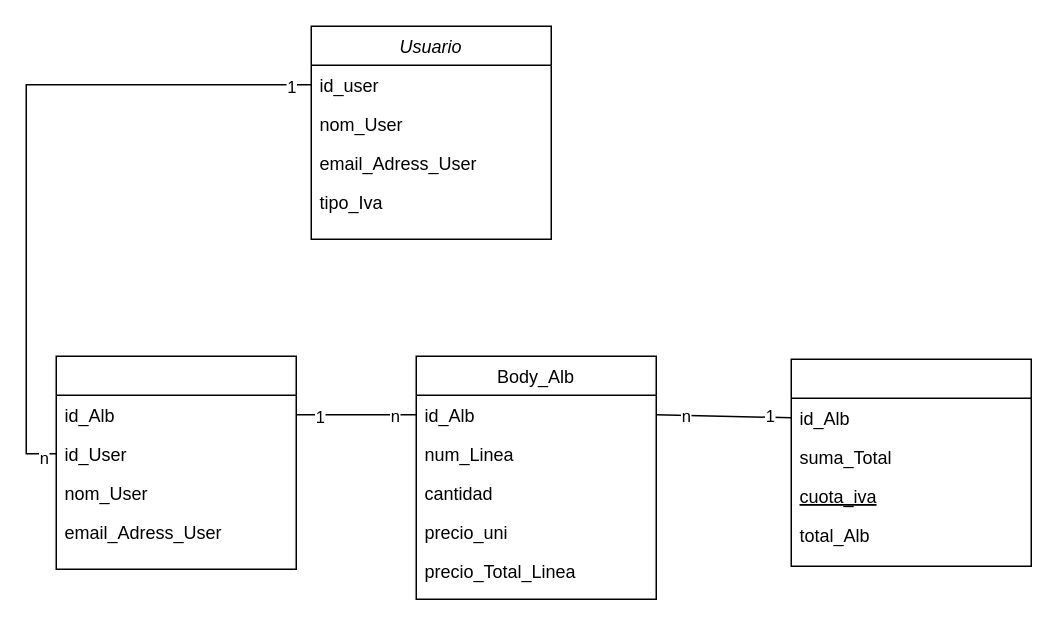
This 1058x626 diagram has some shape labels left out. The box of each missing label's shape, as (x1, y1, x2, y2) in pixels:
Footer_Alb: (790, 358, 1031, 566)
Head_Alb: (55, 355, 296, 569)
